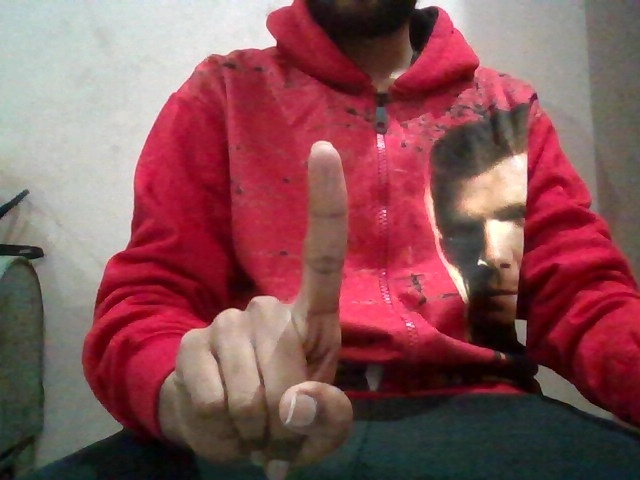D: (153, 131, 373, 480)
